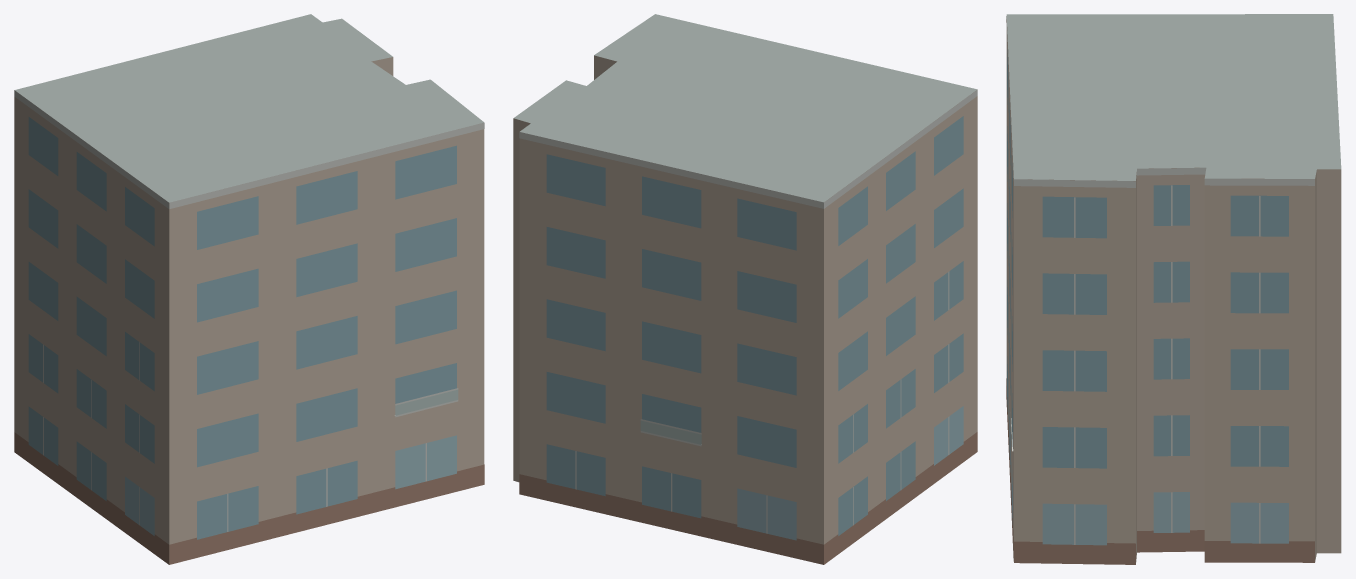
File: survey-upis-32520481.glb
3 renders of one model, left to right at view 1: azimuth 30°, elevation 25°; view 2: azimuth 150°, elevation 25°; view 3: azimuth 270°, elevation 25°, orthographic. The views are drawn at different scales.
Visible parts, largest first — view 1: survey-upis-32520481.tmp; view 2: survey-upis-32520481.tmp; view 3: survey-upis-32520481.tmp.
Boxes of the visible parts, x1,y1,x2,y2 form: survey-upis-32520481.tmp: (14,14,484,564); survey-upis-32520481.tmp: (513,14,977,564); survey-upis-32520481.tmp: (1006,14,1341,564).
Size of the model in its own units: 12.71 by 13.6 by 10.76.
